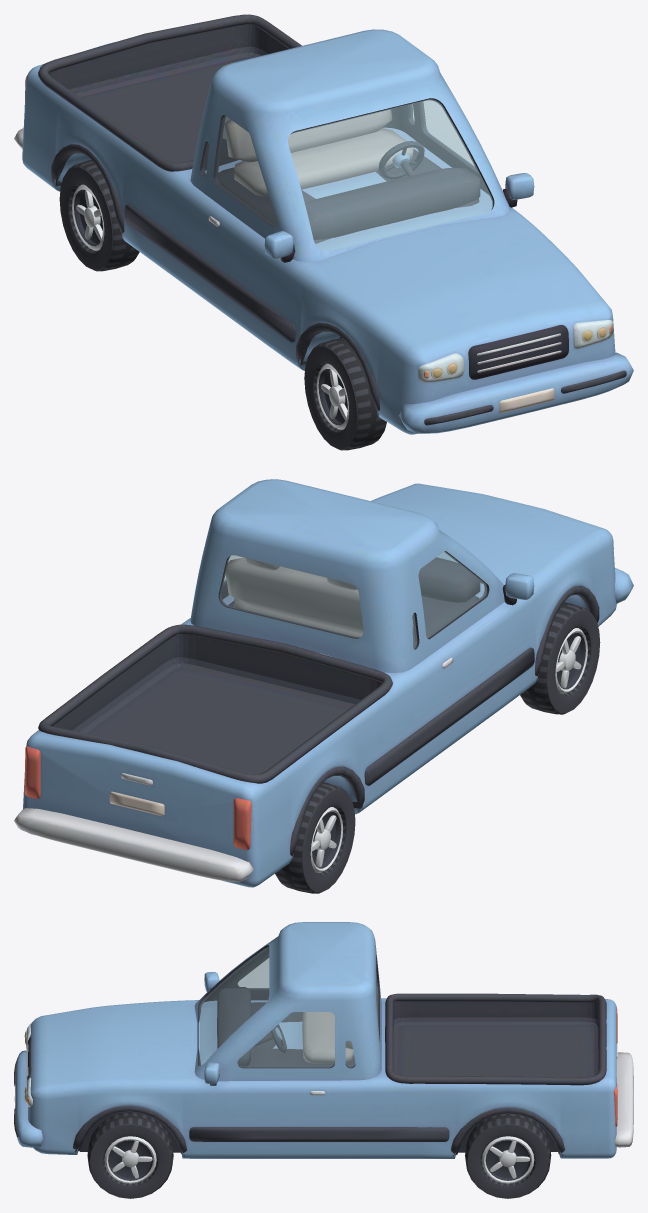
The model's file is g3-1990s-pickup-truck.glb.
3 renders of one model, top to bottom at view 1: azimuth 30°, elevation 25°; view 2: azimuth 150°, elevation 25°; view 3: azimuth 270°, elevation 25°, orthographic. The views are drawn at different scales.
Visible parts, largest first — view 1: 1990s-pickup-truck_body, 1990s-pickup-truck_windows, 1990s-pickup-truck_wheel_fr, 1990s-pickup-truck_wheel_rr; view 2: 1990s-pickup-truck_body, 1990s-pickup-truck_windows, 1990s-pickup-truck_wheel_fr, 1990s-pickup-truck_wheel_rr; view 3: 1990s-pickup-truck_body, 1990s-pickup-truck_windows, 1990s-pickup-truck_wheel_fl, 1990s-pickup-truck_wheel_rl.
Part boxes in pixels (bbox=[...]): 1990s-pickup-truck_body: bbox=[14, 14, 633, 434]; 1990s-pickup-truck_windows: bbox=[202, 99, 492, 250]; 1990s-pickup-truck_wheel_fr: bbox=[304, 338, 386, 450]; 1990s-pickup-truck_wheel_rr: bbox=[59, 160, 139, 271]; 1990s-pickup-truck_body: bbox=[14, 479, 633, 887]; 1990s-pickup-truck_windows: bbox=[220, 551, 486, 648]; 1990s-pickup-truck_wheel_fr: bbox=[520, 602, 600, 714]; 1990s-pickup-truck_wheel_rr: bbox=[275, 782, 355, 893]; 1990s-pickup-truck_body: bbox=[14, 922, 633, 1158]; 1990s-pickup-truck_windows: bbox=[199, 946, 377, 1067]; 1990s-pickup-truck_wheel_fl: bbox=[87, 1112, 173, 1198]; 1990s-pickup-truck_wheel_rl: bbox=[465, 1113, 551, 1198].
Size of the model in its own units: 2.03 by 1.9 by 5.32.
18 materials, 5 textured.
